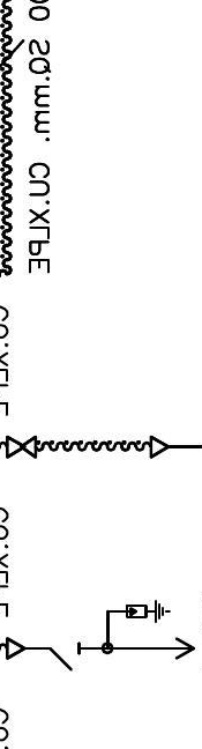22_ds_la_out: (49, 599, 196, 671)
terminator_single: (4, 635, 26, 661), (148, 434, 169, 460)
terminator_splicing_kits: (5, 435, 37, 459)
